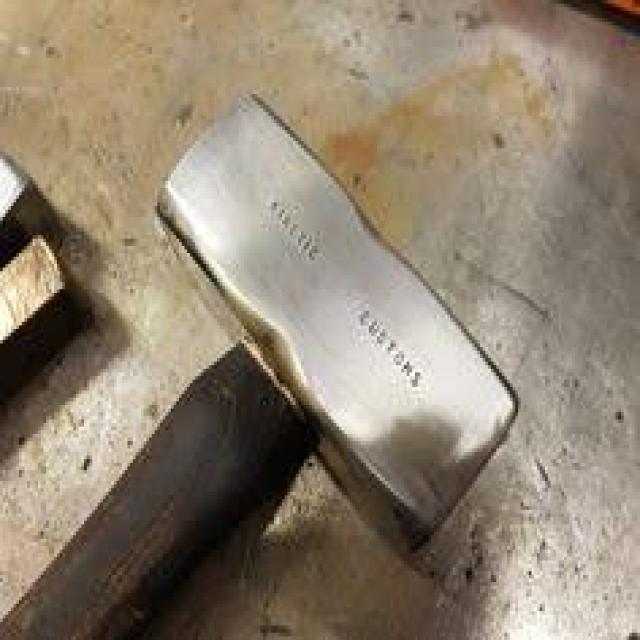hammer: (0, 87, 523, 640)
